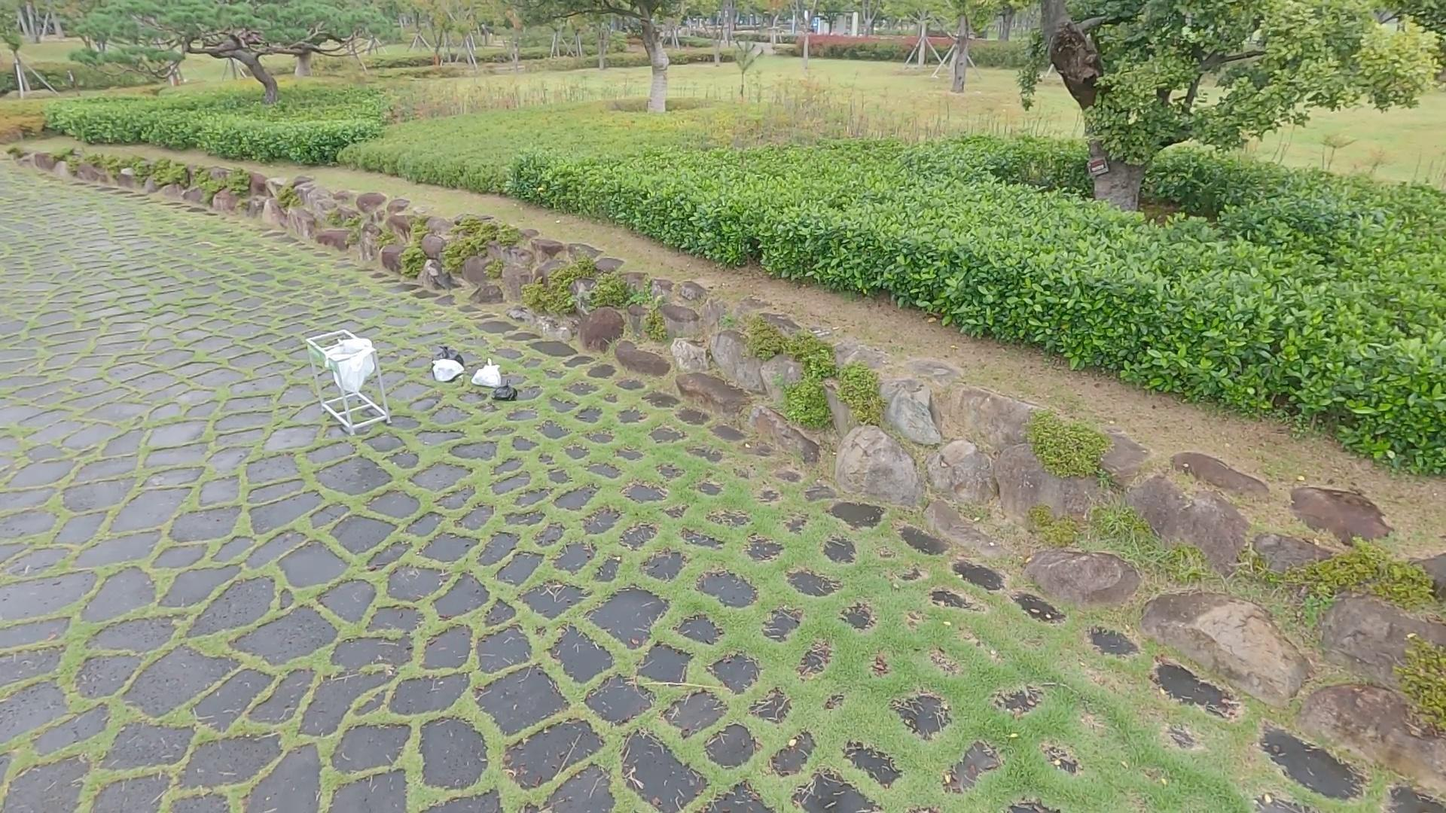trash: (434, 342, 466, 379), (470, 359, 506, 389), (489, 375, 520, 405), (432, 358, 465, 384)
